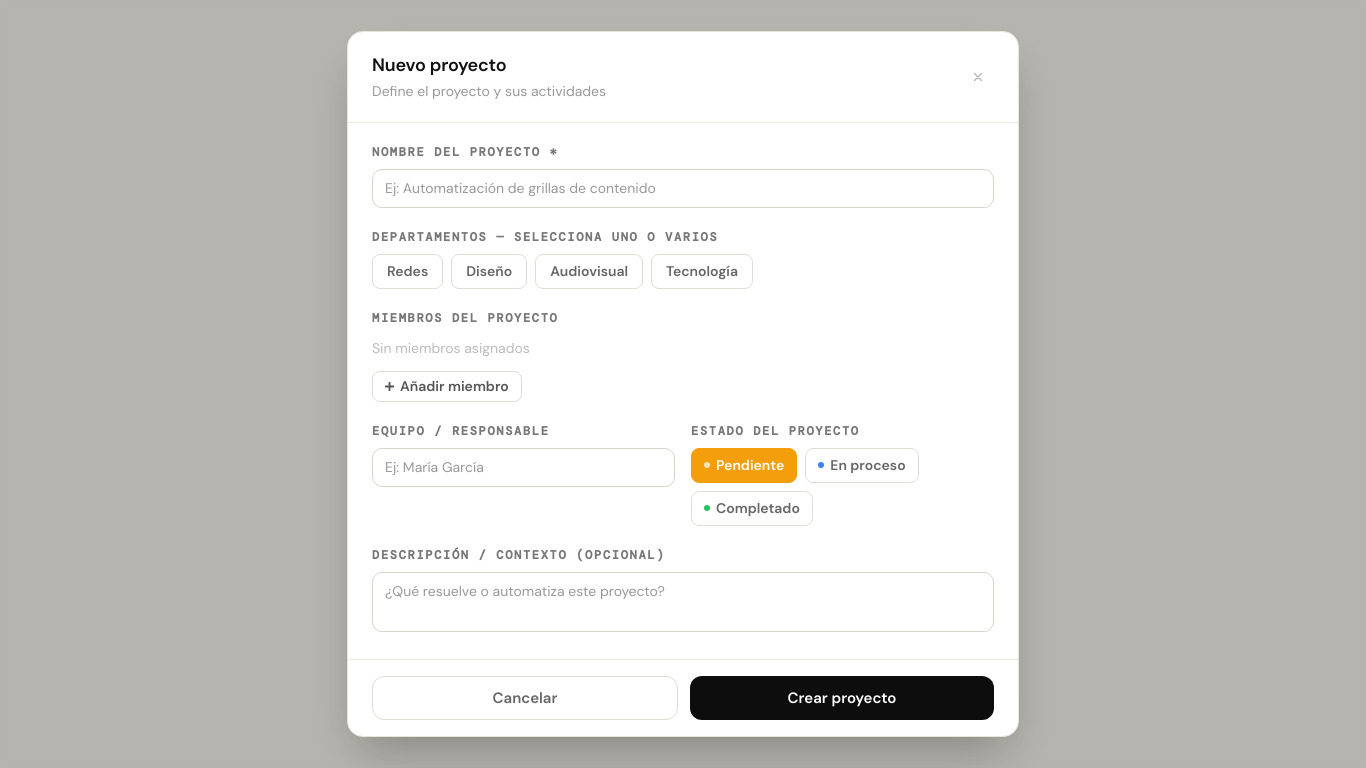
Test case: ProjectModal — member picker › filtra la lista al escribir en el buscador
Click the button "Añadir miembro".
click(447, 386)  # box x1=372 y1=371 x2=522 y2=402
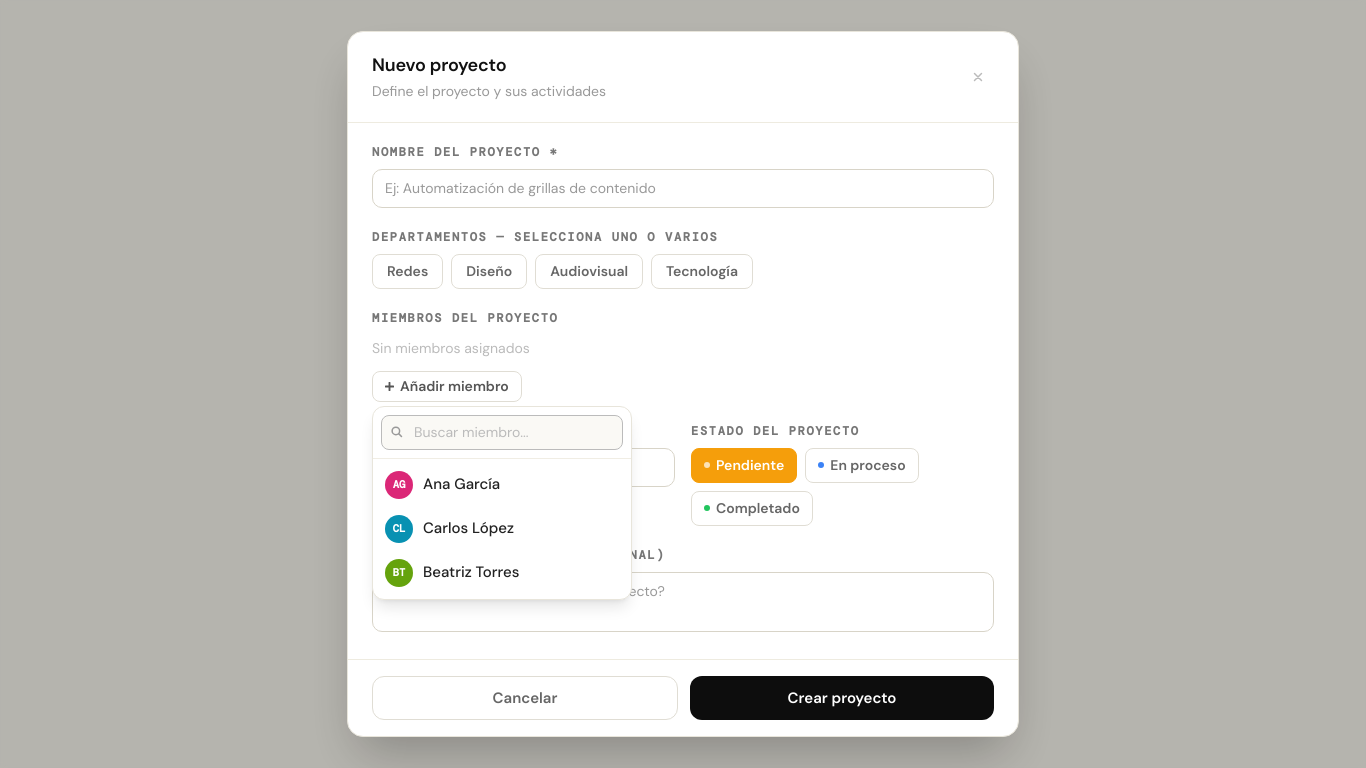
Type "ana" into the field with placeholder "Buscar miembro...".
click(502, 432); type("ana")  # box x1=381 y1=415 x2=623 y2=450
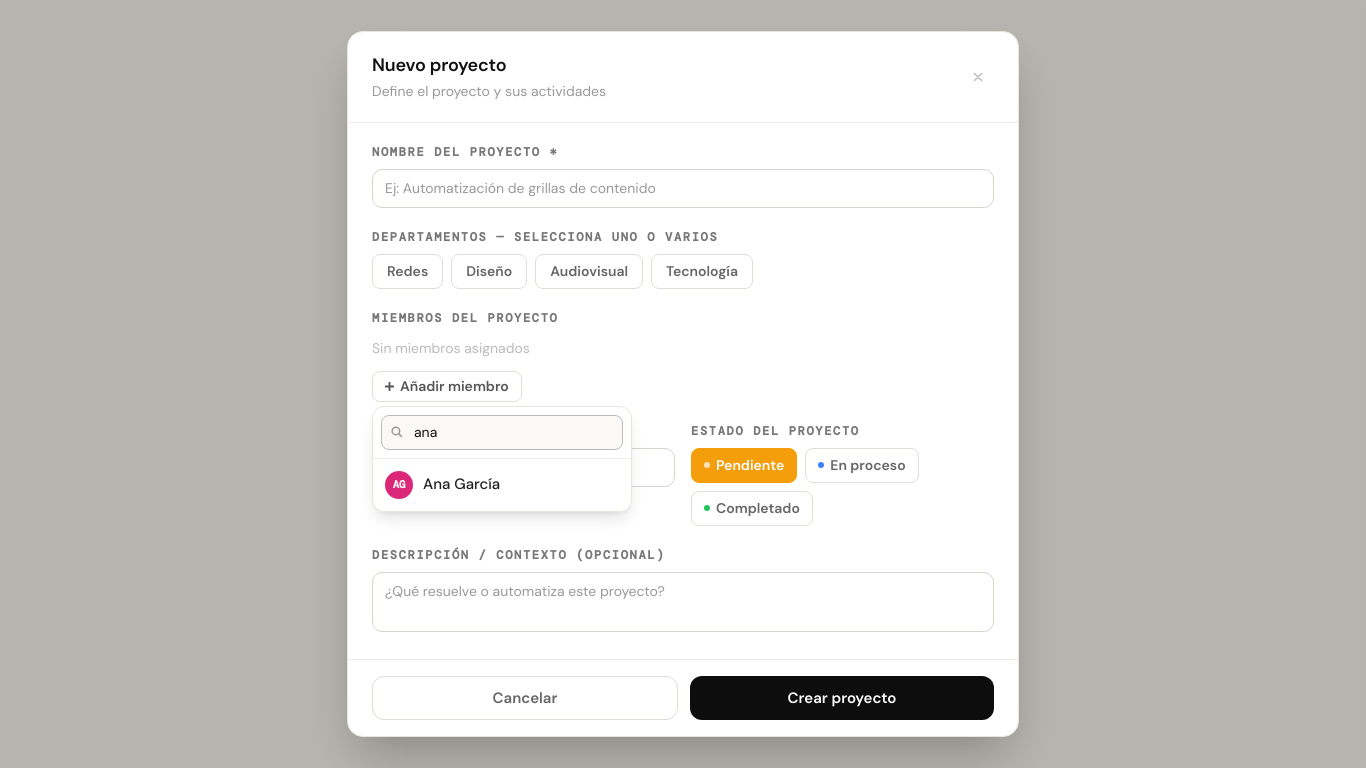
Check: the button "AG Ana García" is shown, box x1=373 y1=463 x2=631 y2=507
Check: the button "Carlos López" is gone
